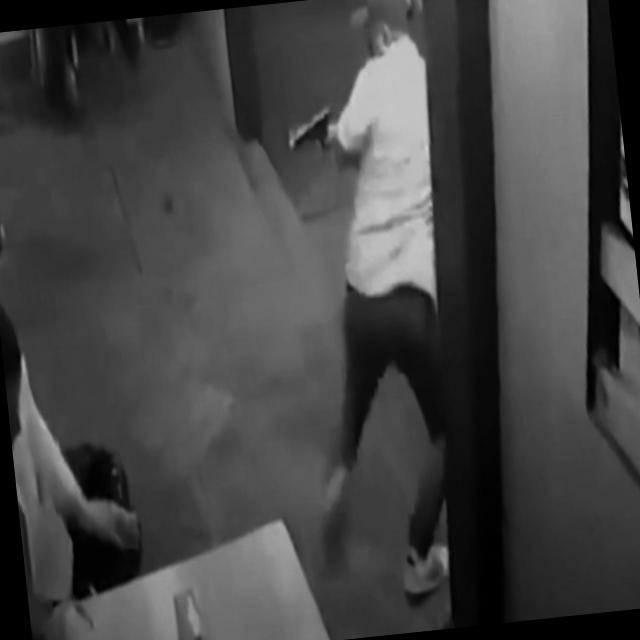gun: (284, 108, 334, 156)
person with a gun: (266, 0, 482, 606)
